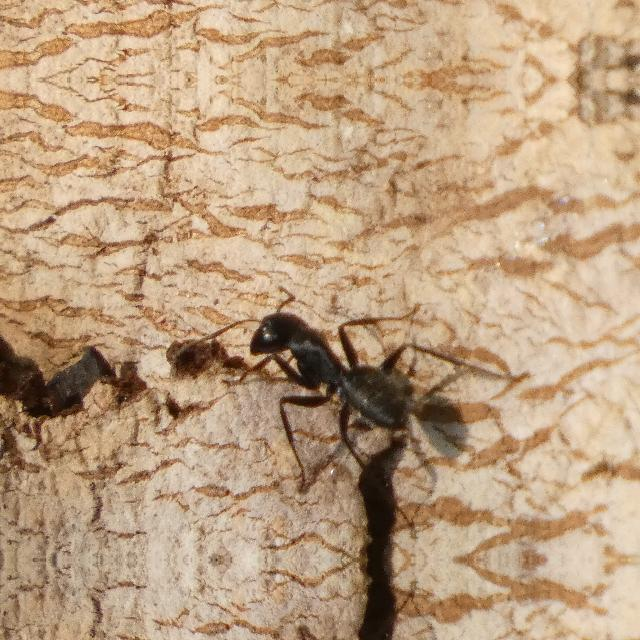Camponotus: (218, 280, 448, 462)
